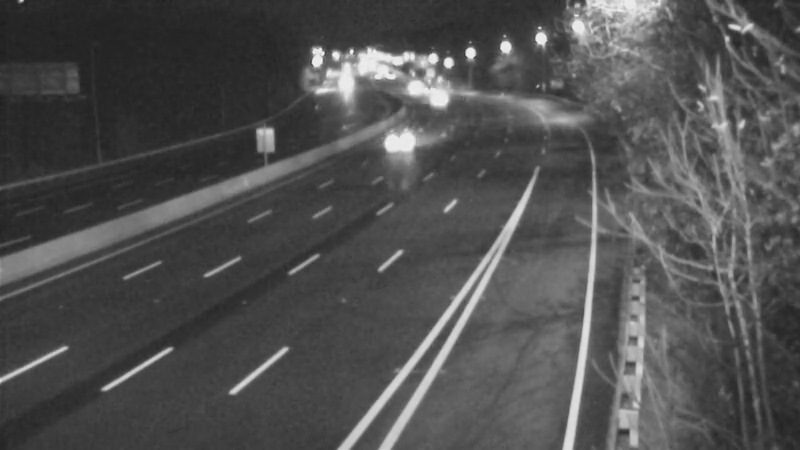vehicle: (388, 57, 438, 107), (414, 76, 464, 126), (370, 115, 420, 165)
